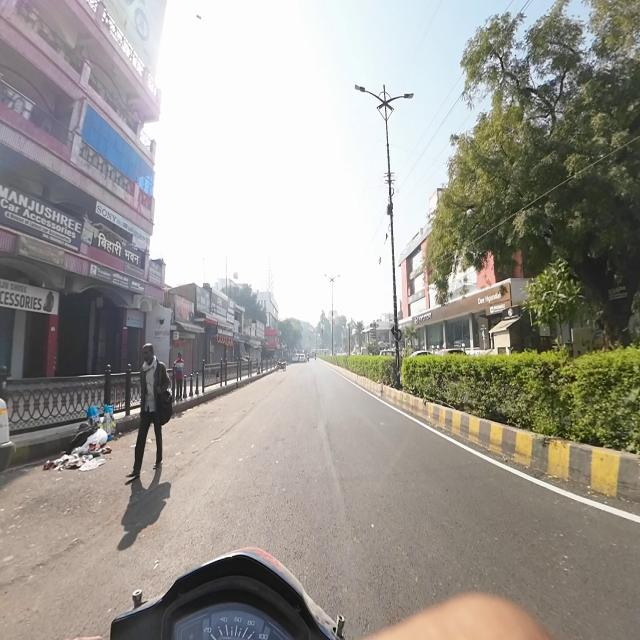Garbage: (53, 454, 103, 471), (77, 430, 109, 454)
